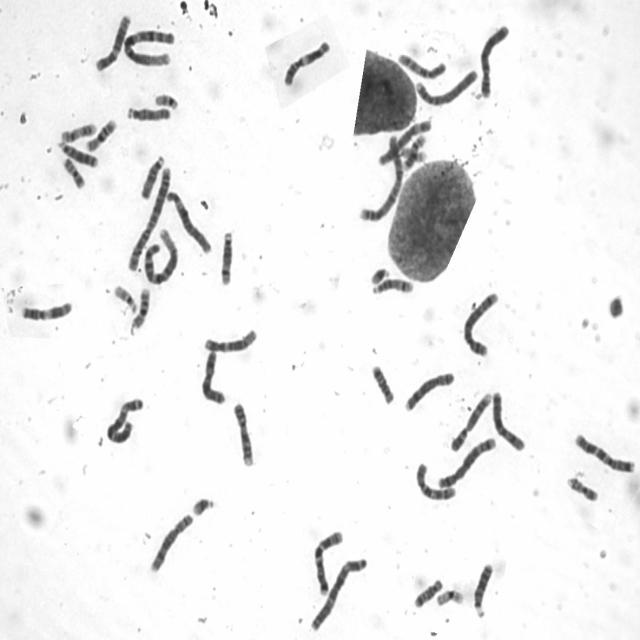A1: (141, 224, 179, 286), (121, 27, 175, 68)
A2: (124, 162, 172, 274), (357, 132, 405, 224)
A3: (308, 554, 368, 632), (104, 394, 145, 446)
B4: (412, 65, 478, 109), (477, 22, 510, 98)
B5: (435, 434, 497, 490), (460, 289, 500, 359)
C10: (413, 459, 458, 501), (395, 49, 447, 82)
C11: (281, 38, 331, 87), (20, 298, 73, 322)
C12: (93, 11, 132, 73), (201, 326, 259, 354)
C6: (165, 188, 213, 255), (374, 116, 433, 167)
C7: (573, 431, 636, 474), (312, 527, 344, 596)
C8: (147, 509, 195, 574), (402, 369, 456, 413)
C9: (447, 389, 494, 453), (231, 400, 255, 468)
D13: (471, 559, 495, 619), (56, 139, 98, 169)
D14: (217, 226, 236, 288), (369, 275, 415, 296)
D15: (137, 152, 166, 200), (124, 103, 172, 124)
E16: (84, 116, 118, 152), (129, 285, 151, 330)
E17: (401, 134, 426, 172), (58, 120, 97, 143)
E18: (369, 361, 395, 405), (412, 577, 444, 608)
F19: (434, 586, 466, 607), (398, 145, 429, 164)
F20: (566, 477, 599, 503), (61, 155, 86, 189)
G21: (190, 493, 216, 518), (368, 264, 391, 286)
G22: (112, 282, 138, 314), (152, 90, 179, 110)
X: (490, 388, 526, 452), (199, 348, 227, 406)
